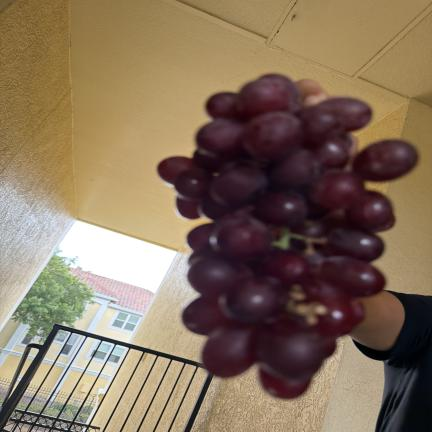grape_cluster: (158, 74, 418, 398)
